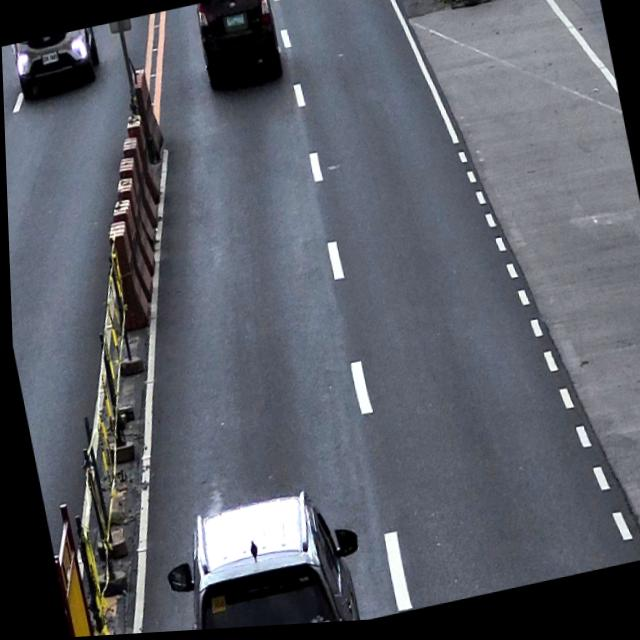Car: (152, 484, 368, 634), (193, 0, 285, 98), (9, 27, 104, 101)
License-Plate: (225, 14, 245, 32), (39, 50, 59, 66)
